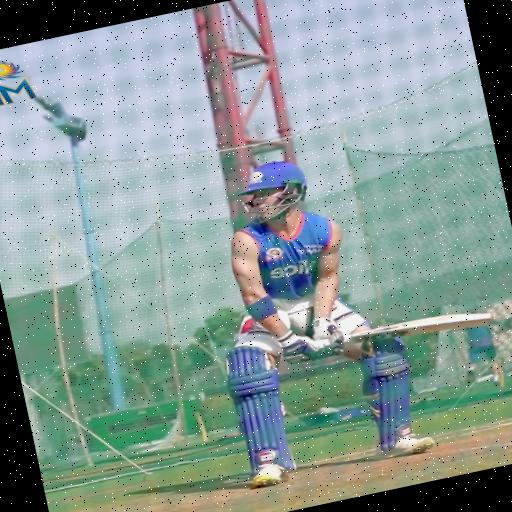Cricket bat: (344, 312, 491, 343)
